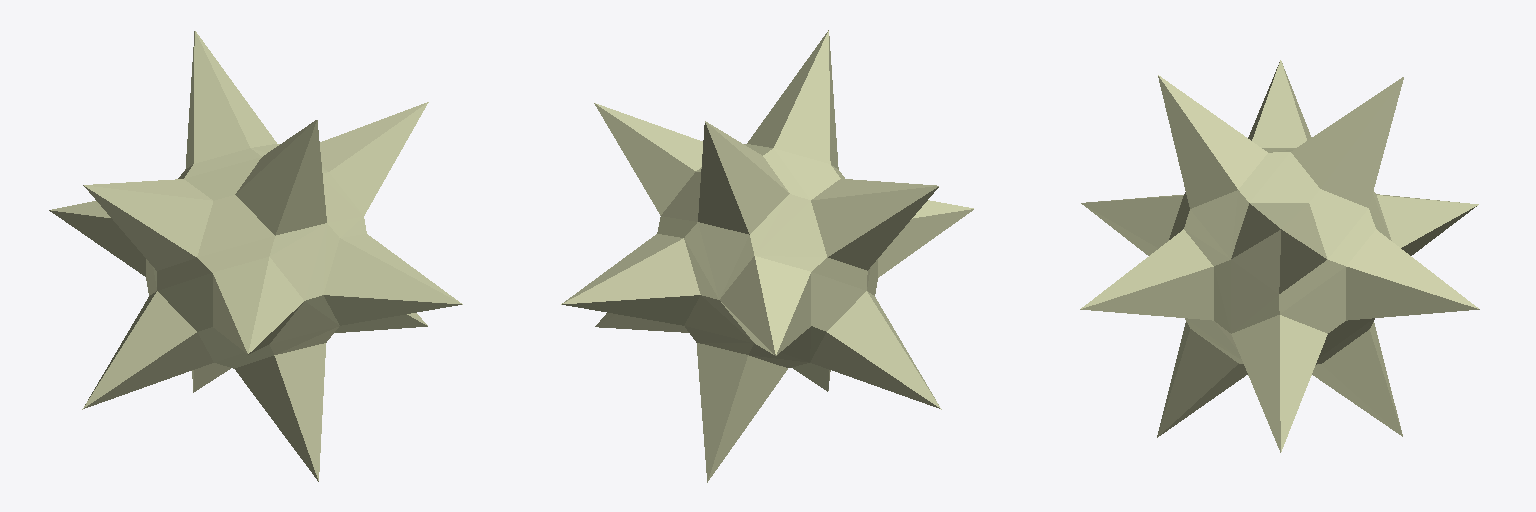
The model's file is projectile.obj.
The picture shows the model from 3 angles: view 1: azimuth 30°, elevation 25°; view 2: azimuth 150°, elevation 25°; view 3: azimuth 270°, elevation 25°; orthographic projection.
Visible parts, largest first — view 1: Hedra001; view 2: Hedra001; view 3: Hedra001.
Boxes of the visible parts, box(x1,y1,x2,y2) form: Hedra001: box(49, 31, 462, 481); Hedra001: box(561, 30, 973, 482); Hedra001: box(1080, 60, 1479, 452).
Bounding box in the file's own units: 2.77 × 2.77 × 2.77.